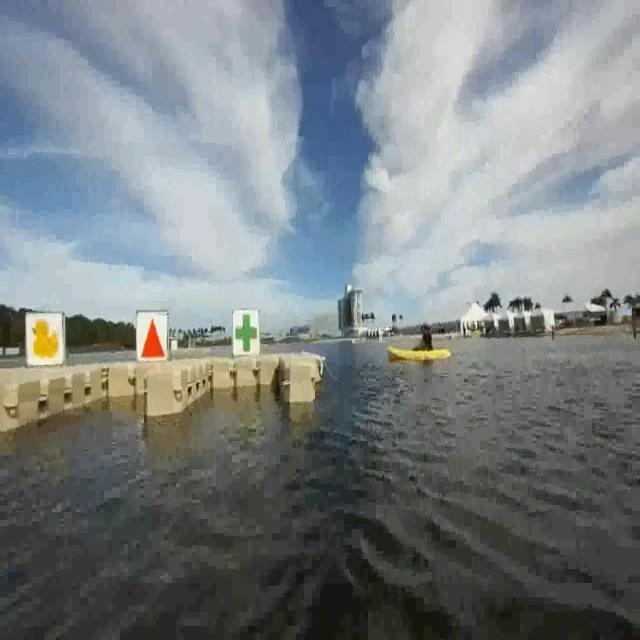blue-cross: (233, 306, 259, 354)
red-dot: (136, 311, 166, 361)
yellow-duck: (30, 317, 60, 359)
